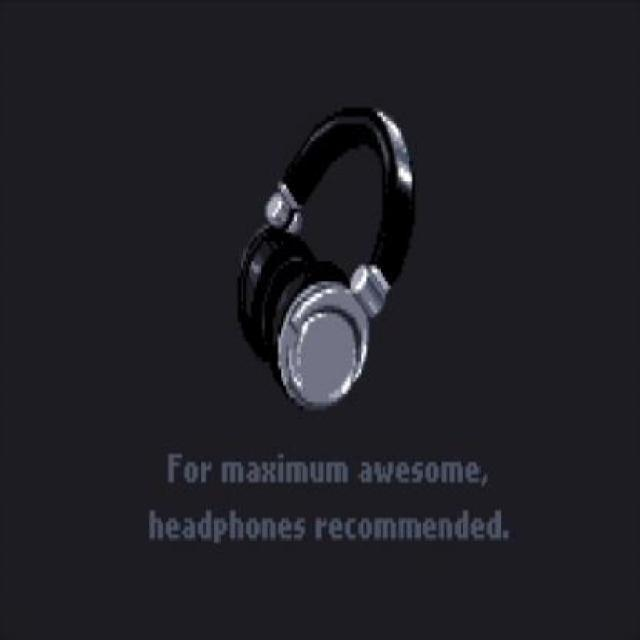earphone: (210, 59, 482, 438)
